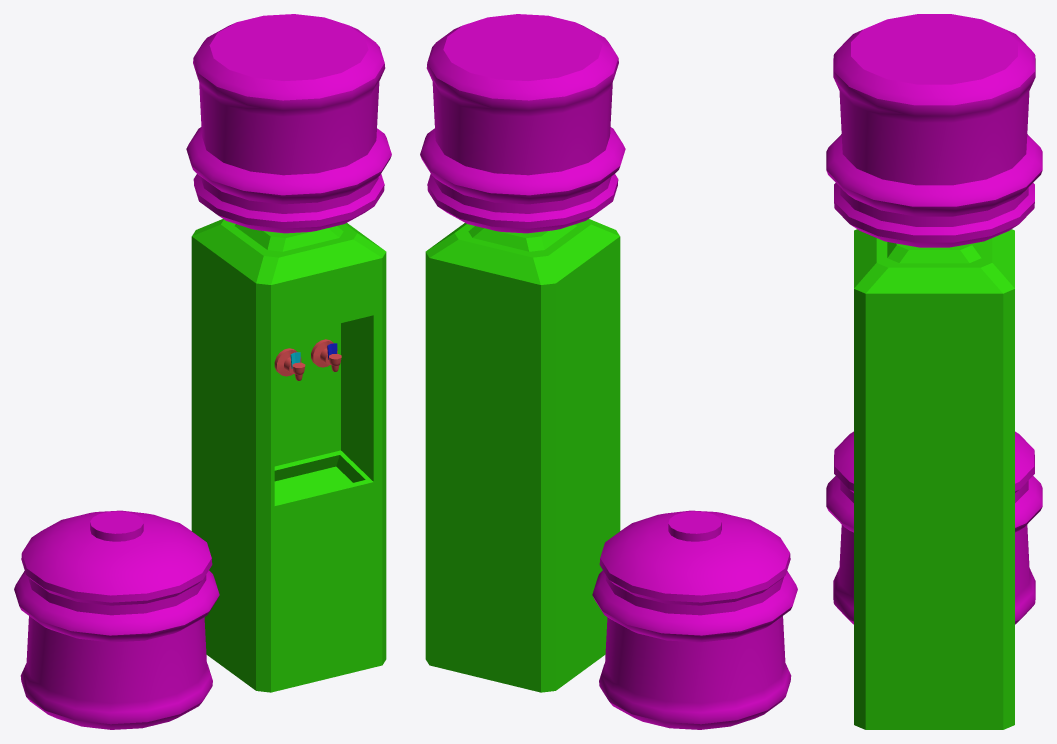
Rendered from кулер.fbx.
3 views of the same model, side by side, from view 1: azimuth 30°, elevation 25°; view 2: azimuth 150°, elevation 25°; view 3: azimuth 270°, elevation 25° (orthographic). The views are drawn at different scales.
Parts seen in each view (by area): view 1: Cube; view 2: Cube; view 3: Cube.
Part boxes in pixels (bbox=[...]): Cube: bbox=[14, 14, 391, 729]; Cube: bbox=[420, 14, 797, 729]; Cube: bbox=[826, 14, 1042, 729].
Bounding box in the file's own units: 5.33 × 8.9 × 2.69.
